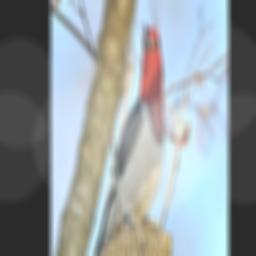Woodpecker: (88, 8, 169, 256)
